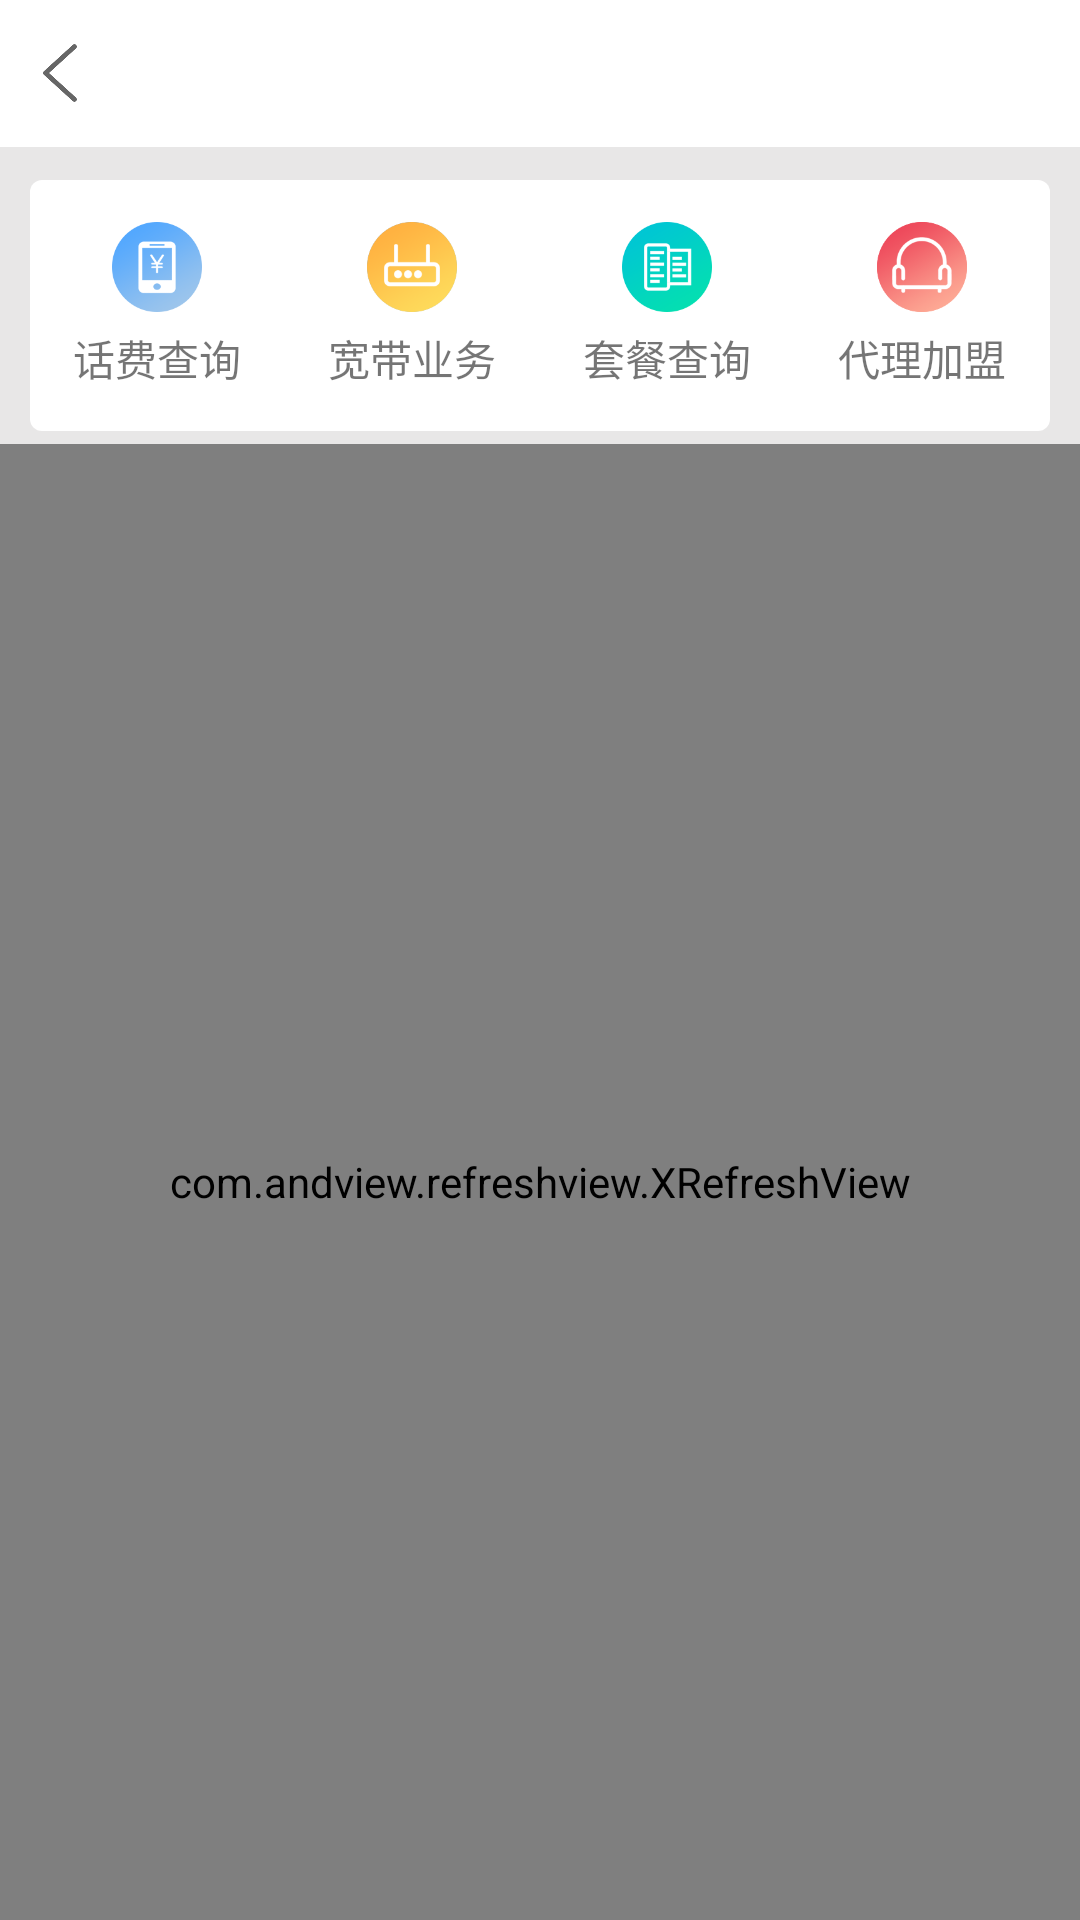

Screen size 1080 x 1920. Icon name, then its center in pixels as (x=x, y=y):
back: (x=60, y=73)
